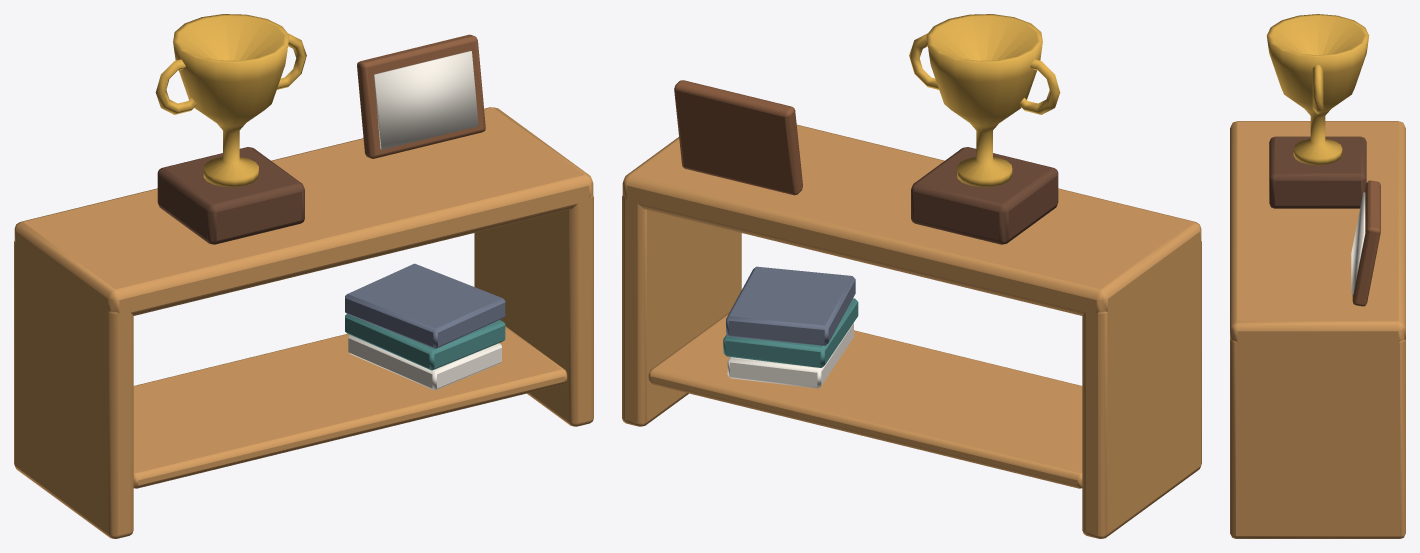
File: trophy_case_l1.glb
The picture shows the model from 3 angles, left to right: view 1: azimuth 30°, elevation 25°; view 2: azimuth 150°, elevation 25°; view 3: azimuth 270°, elevation 25°; orthographic projection. The views are drawn at different scales.
Parts seen in each view (by area): view 1: trophy_case_l1; view 2: trophy_case_l1; view 3: trophy_case_l1.
Part boxes in pixels (<box>): trophy_case_l1: <box>14,14,593,538</box>; trophy_case_l1: <box>622,14,1201,538</box>; trophy_case_l1: <box>1230,14,1405,538</box>.
Size of the model in its own units: 1 by 0.84 by 0.36.
